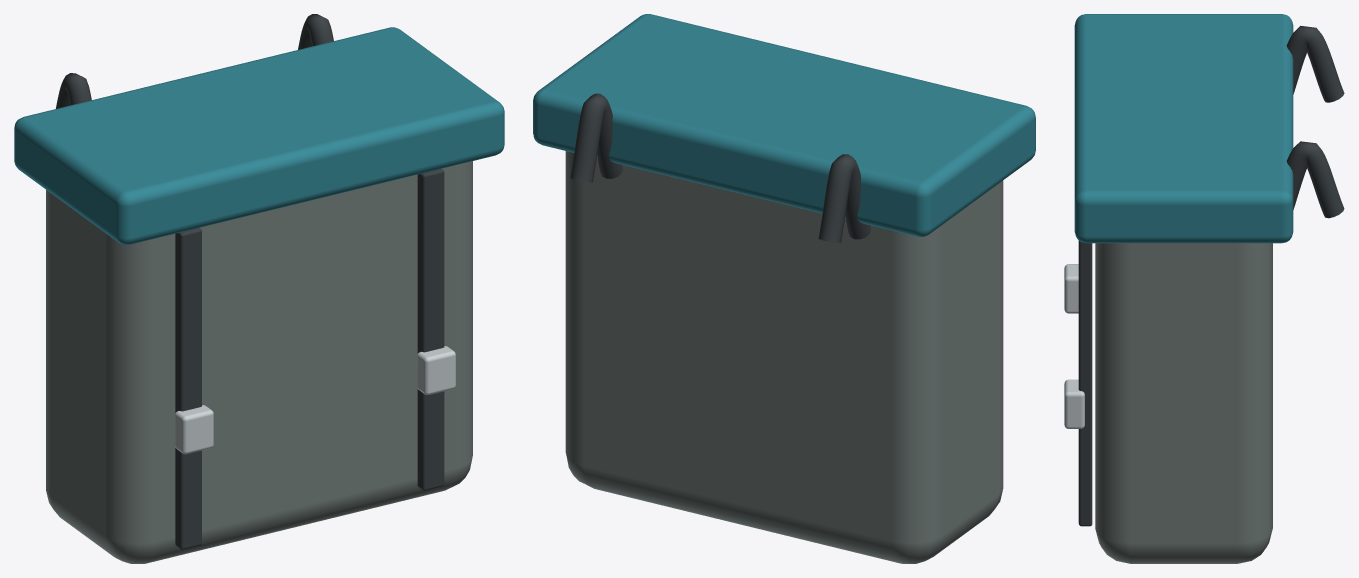
Rendered from bicycle-shop-and-repair-cafe-cargo-pannier-bag-32b78075__32422.glb.
3 views of the same model, side by side, from view 1: azimuth 30°, elevation 25°; view 2: azimuth 150°, elevation 25°; view 3: azimuth 270°, elevation 25° (orthographic). The views are drawn at different scales.
Parts seen in each view (by area): view 1: cargo-pannier-bag; view 2: cargo-pannier-bag; view 3: cargo-pannier-bag.
Boxes of the visible parts, box(x1,y1,x2,y2) form: cargo-pannier-bag: box(14, 14, 504, 563); cargo-pannier-bag: box(533, 14, 1035, 563); cargo-pannier-bag: box(1064, 14, 1344, 563).
Bounding box in the file's own units: 0.32 × 0.3265 × 0.2049.
